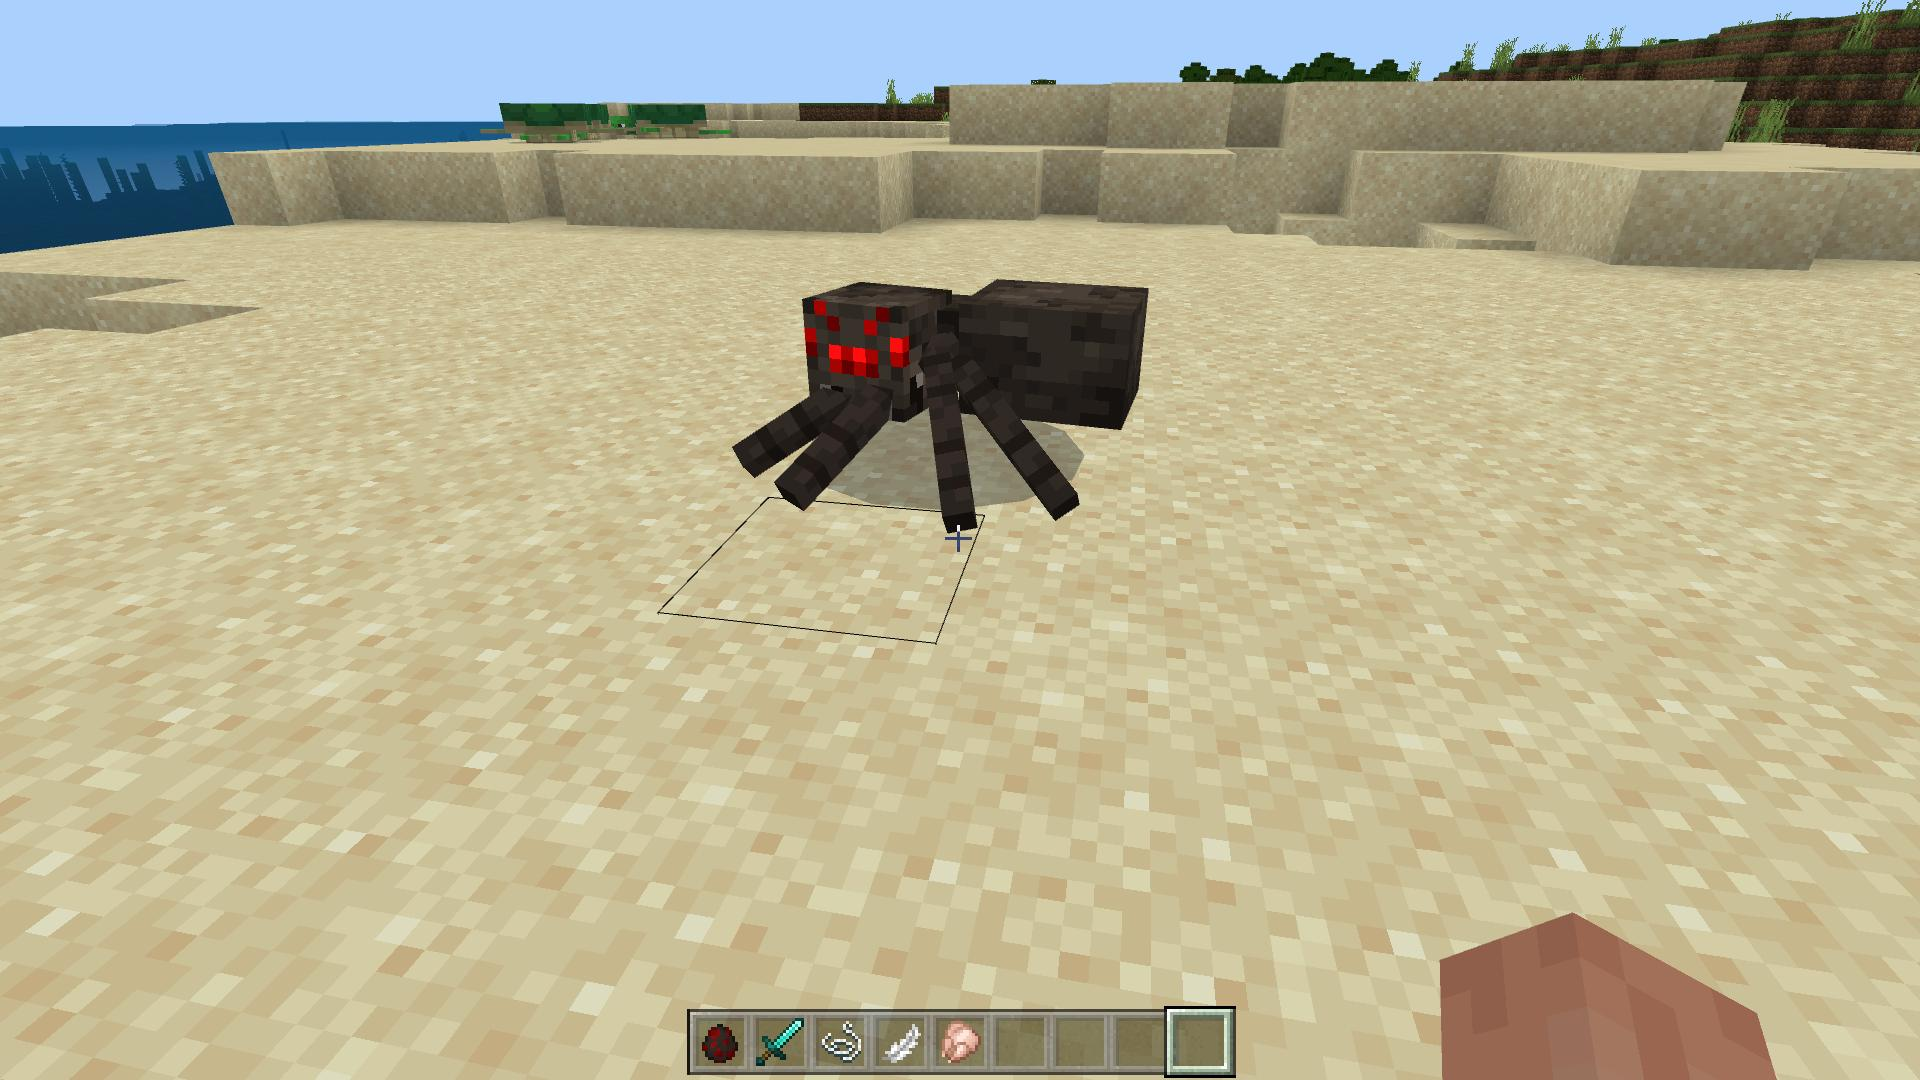spider: (731, 270, 1149, 529)
